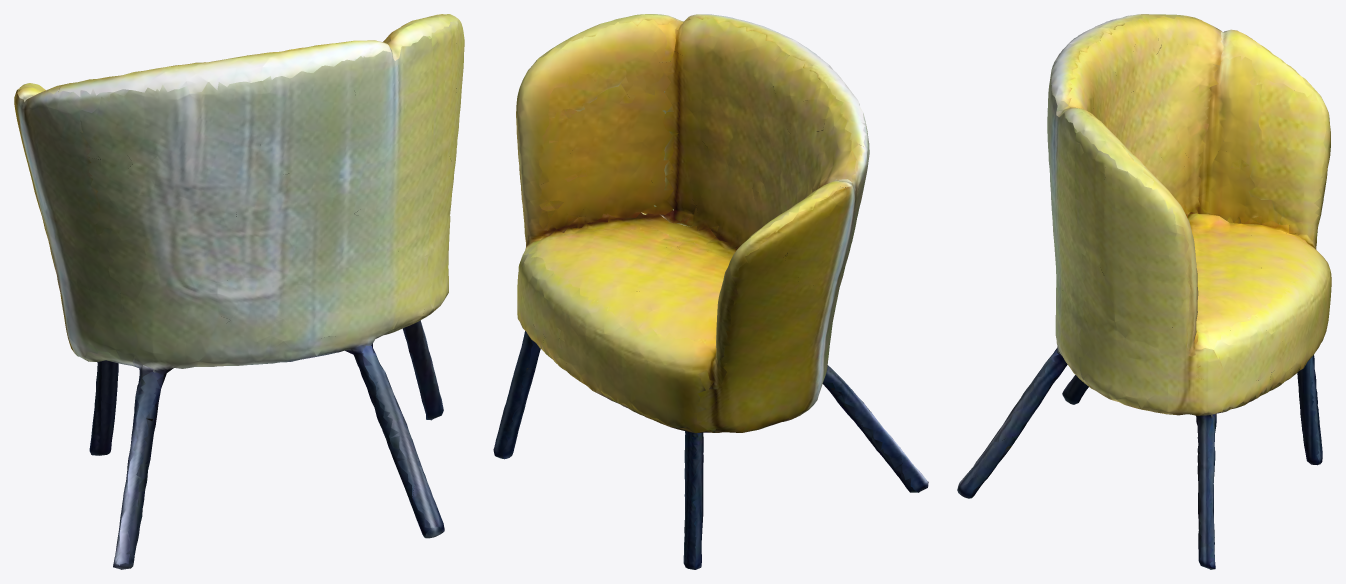
3 renders of one model, left to right at view 1: azimuth 30°, elevation 25°; view 2: azimuth 150°, elevation 25°; view 3: azimuth 270°, elevation 25°, orthographic. The views are drawn at different scales.
Parts seen in each view (by area): view 1: world; view 2: world; view 3: world.
Part boxes in pixels (x1,y1,x2,y2): world: (14, 14, 464, 569); world: (493, 14, 928, 569); world: (957, 14, 1331, 569).
Bounding box in the file's own units: 0.8785 × 0.9968 × 0.7769.
1 material, 1 textured.
